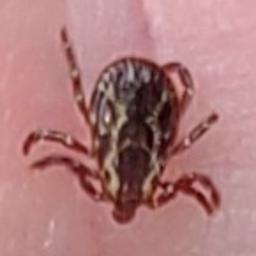Dermacentor variabilis: (23, 23, 220, 222)
